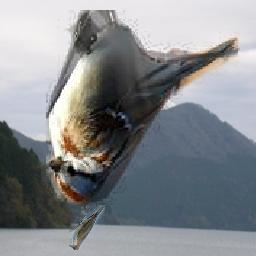Cuckoo: (69, 206, 105, 251)
Sparrow: (46, 11, 240, 206)
